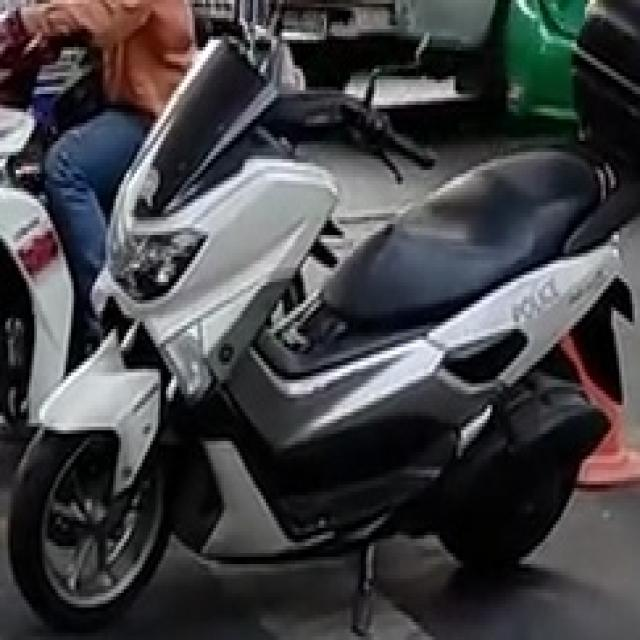door: (0, 0, 637, 633)
tyre: (5, 423, 171, 629)
